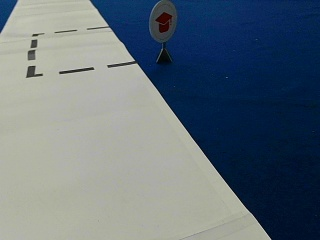school: (148, 1, 177, 41)
